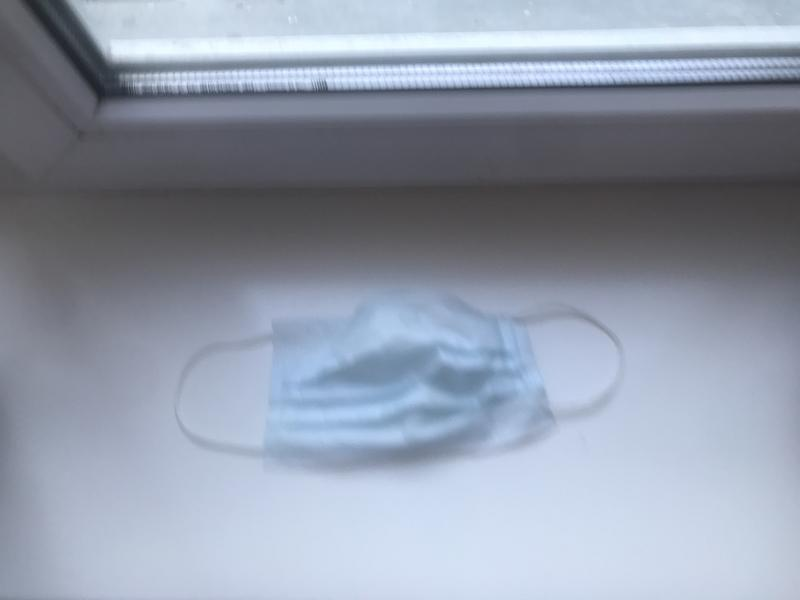medical_mask: (173, 289, 624, 456)
